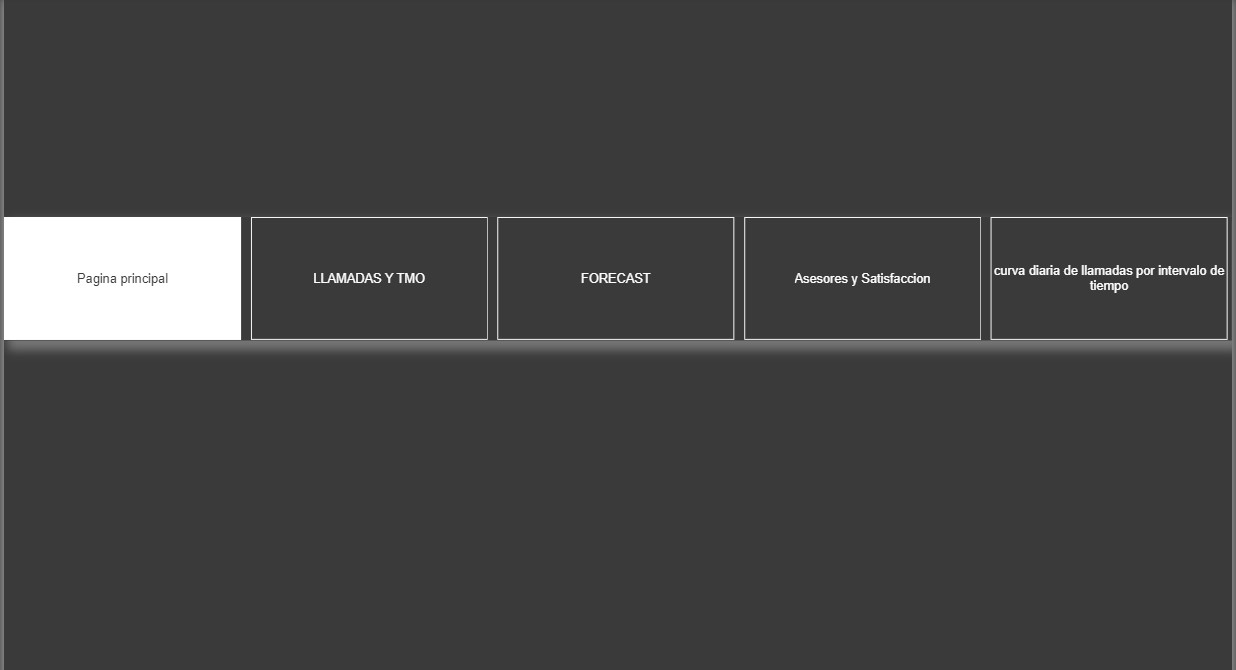

This screenshot's page, from the dashboard's own definition file:
{"tool":"powerbi","page":{"name":"Pagina principal","canvas":[1280,720],"ordinal":0},"visuals":[{"type":"pageNavigator","box":[0,230.6,1279.4,128.5],"z":0}]}

Visuals, with their boxes in screenshot pixels (x1, y1, x2, y2):
pageNavigator: [0,213,1216,335]
